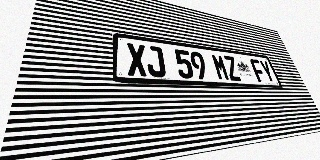5: (174, 49, 195, 79)
9: (189, 51, 209, 80)
F: (249, 59, 268, 82)
J: (145, 45, 166, 77)
M: (211, 54, 230, 81)
X: (126, 43, 148, 77)
Y: (258, 60, 276, 83)
Z: (223, 55, 242, 81)
